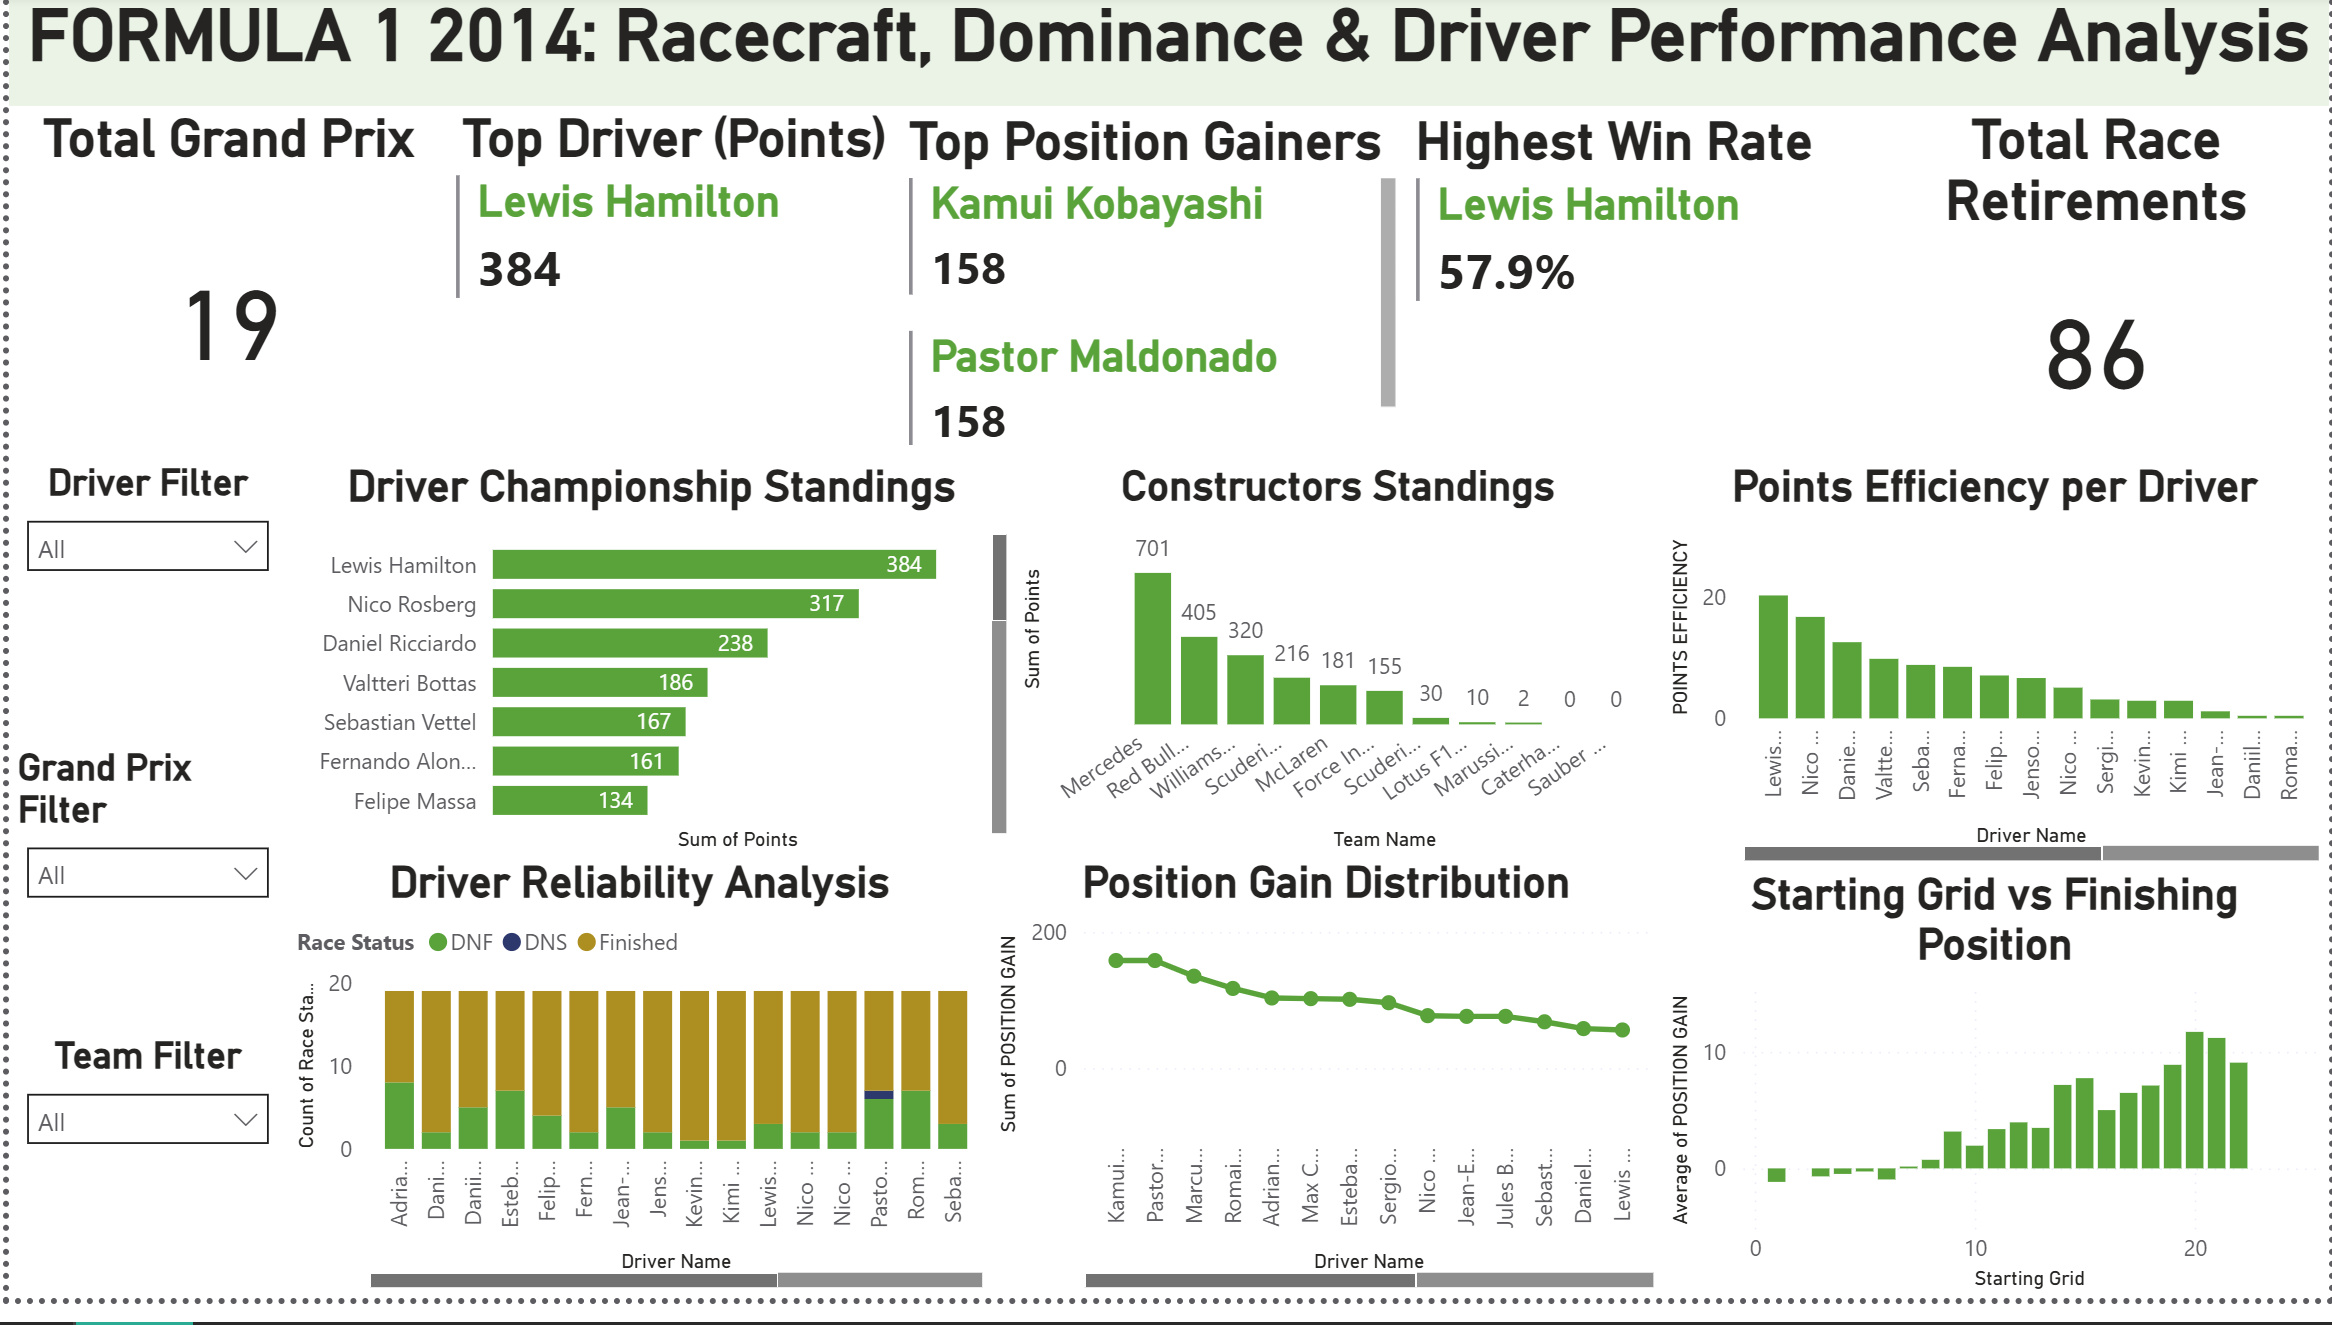

This screenshot's page, from the dashboard's own definition file:
{"tool":"powerbi","page":{"name":"Page 1","canvas":[1280,720],"ordinal":0},"visuals":[{"type":"card","title":"Total Grand Prix","fields":{"Values":["F1_2014.TOTAL RACES"]},"box":[0,62.5,242.4,195],"z":0},{"type":"multiRowCard","title":"Top Driver (Points)","fields":{"Values":["F1_2014.Driver Name","Sum(F1_2014.Points)"]},"box":[242.4,62.5,249.9,195],"z":1},{"type":"multiRowCard","title":"Top Position Gainers","fields":{"Values":["F1_2014.Driver Name","Sum(F1_2014.POSITION GAIN)"]},"box":[492.3,64.4,278.3,189.3],"z":3},{"type":"multiRowCard","title":"Highest Win Rate","fields":{"Values":["F1_2014.Most Dominant Driver","F1_2014.Driver Name"]},"box":[770.7,64.4,251.8,193.1],"z":4},{"type":"lineChart","title":"Position Gain Distribution","fields":{"Category":["F1_2014.Driver Name"],"Y":["Sum(F1_2014.POSITION GAIN)"]},"box":[541.5,477.2,371.1,242.4],"z":5},{"type":"columnChart","title":"Points Efficiency per Driver","fields":{"Category":["F1_2014.Driver Name"],"Y":["F1_2014.POINTS EFFICIENCY"]},"box":[912.7,257.5,367.3,225.3],"z":6},{"type":"columnChart","title":"Driver Reliability Analysis","fields":{"Y":["CountNonNull(F1_2014.Race Status)"],"Category":["F1_2014.Driver Name"],"Series":["F1_2014.Race Status"]},"box":[153.4,477.2,388.2,242.4],"z":7},{"type":"clusteredColumnChart","title":"Starting Grid vs Finishing Position","fields":{"Category":["F1_2014.Starting Grid"],"Y":["Avg(F1_2014.POSITION GAIN)"]},"box":[912.7,482.8,367.3,236.7],"z":8},{"type":"clusteredBarChart","title":"Driver Championship Standings","fields":{"Category":["F1_2014.Driver Name"],"Y":["Sum(F1_2014.Points)"]},"box":[153.4,257.5,401.4,219.6],"z":9},{"type":"columnChart","title":"Constructors Standings","fields":{"Category":["F1_2014.Team Name"],"Y":["Sum(F1_2014.Points)"]},"box":[554.8,257.5,357.9,219.6],"z":10},{"type":"card","title":"Total Race Retirements ","fields":{"Values":["F1_2014.DNF COUNT"]},"box":[1022.5,62.5,257.5,191.2],"z":11},{"type":"slicer","title":"Driver Filter","fields":{"Values":["F1_2014.Driver Name"]},"box":[0,257.5,153.4,157.2],"z":12},{"type":"slicer","title":"Grand Prix Filter","fields":{"Values":["F1_2014.Grand Prix"]},"box":[0,414.7,153.4,159.1],"z":13},{"type":"slicer","title":"Team Filter","fields":{"Values":["F1_2014.Team Name"]},"box":[0,573.7,153.4,145.8],"z":14},{"type":"shape","title":"FORMULA 1 2014: Racecraft, Dominance & Driver Performance Analysis","box":[0,0,1280,62.5],"z":15}]}

Visuals, with their boxes in screenshot pixels (x1, y1, x2, y2), scaled from the page's 1280x720 canvas onto the 2332x1325 screenshot:
"Total Grand Prix" card: 0:115:442:474
"Top Driver (Points)" multiRowCard: 442:115:897:474
"Top Position Gainers" multiRowCard: 897:119:1404:467
"Highest Win Rate" multiRowCard: 1404:119:1863:474
"Position Gain Distribution" lineChart: 987:878:1663:1324
"Points Efficiency per Driver" columnChart: 1663:474:2331:888
"Driver Reliability Analysis" columnChart: 279:878:987:1324
"Starting Grid vs Finishing Position" clusteredColumnChart: 1663:888:2331:1324
"Driver Championship Standings" clusteredBarChart: 279:474:1011:878
"Constructors Standings" columnChart: 1011:474:1663:878
"Total Race Retirements " card: 1863:115:2331:467
"Driver Filter" slicer: 0:474:279:763
"Grand Prix Filter" slicer: 0:763:279:1056
"Team Filter" slicer: 0:1056:279:1324
"FORMULA 1 2014: Racecraft, Dominance & Driver Performance Analysis" shape: 0:0:2331:115
